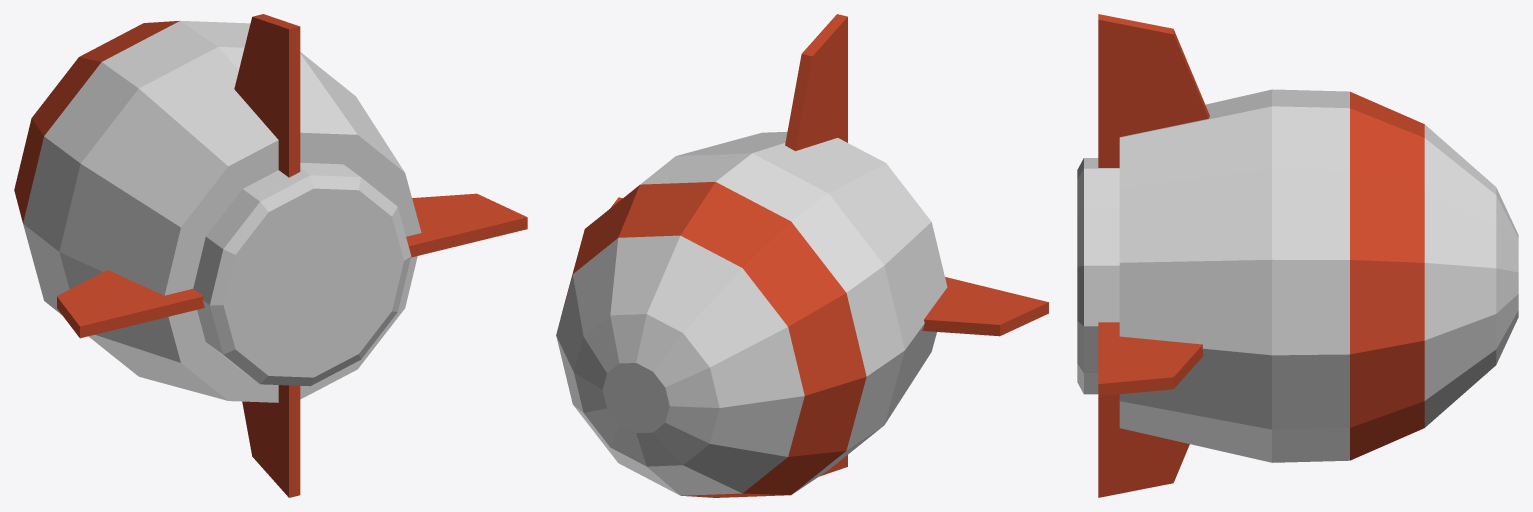
Rendered from projectile.gltf.
3 views of the same model, side by side, from view 1: azimuth 30°, elevation 25°; view 2: azimuth 150°, elevation 25°; view 3: azimuth 270°, elevation 25° (orthographic). The views are drawn at different scales.
Parts seen in each view (by area): view 1: Projectile; view 2: Projectile; view 3: Projectile.
Boxes of the visible parts, x1,y1,x2,y2 form: Projectile: [14, 14, 527, 497]; Projectile: [556, 14, 1048, 497]; Projectile: [1077, 14, 1518, 497].
Bounding box in the file's own units: 1.32 × 1.32 × 1.1.
